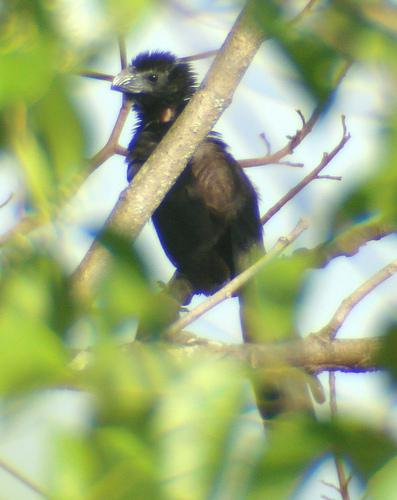004.Groove_billed_Ani: (113, 50, 325, 441)
